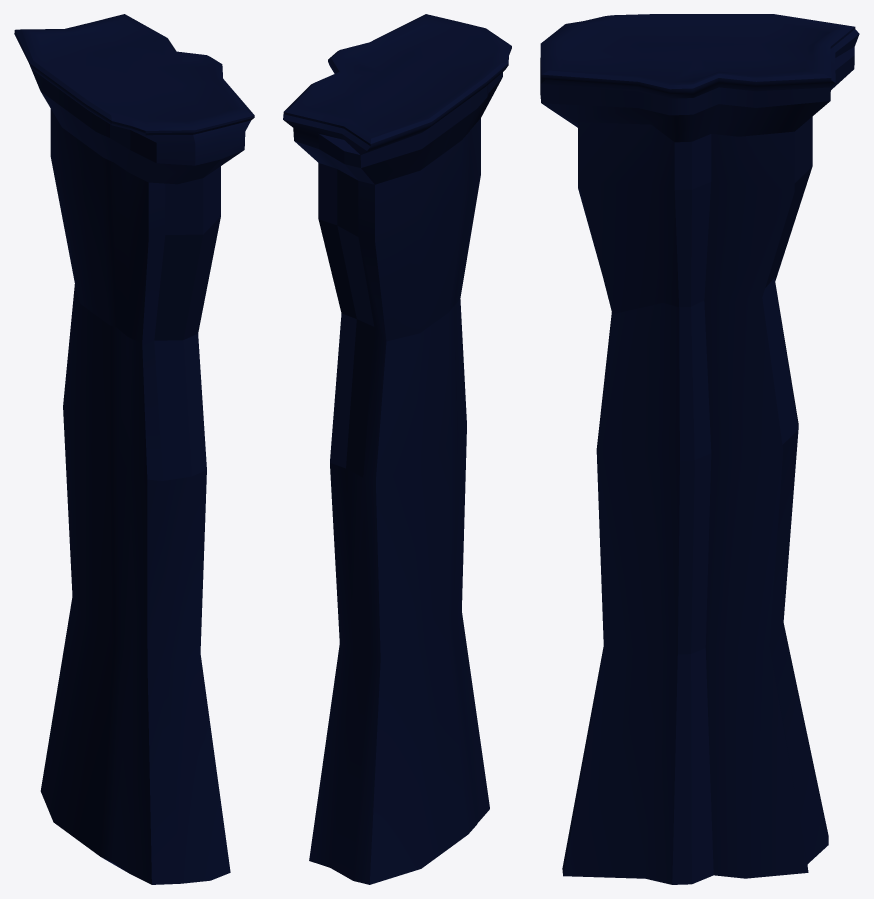
Rendered from DungeonTall3.fbx.
3 renders of one model, left to right at view 1: azimuth 30°, elevation 25°; view 2: azimuth 150°, elevation 25°; view 3: azimuth 270°, elevation 25°, orthographic. The views are drawn at different scales.
Parts seen in each view (by area): view 1: DungeonTall3; view 2: DungeonTall3; view 3: DungeonTall3.
Part boxes in pixels (<box>): DungeonTall3: <box>14,14,254,884</box>; DungeonTall3: <box>283,14,511,884</box>; DungeonTall3: <box>540,14,859,884</box>.
Bounding box in the file's own units: 394 × 714 × 2009.
